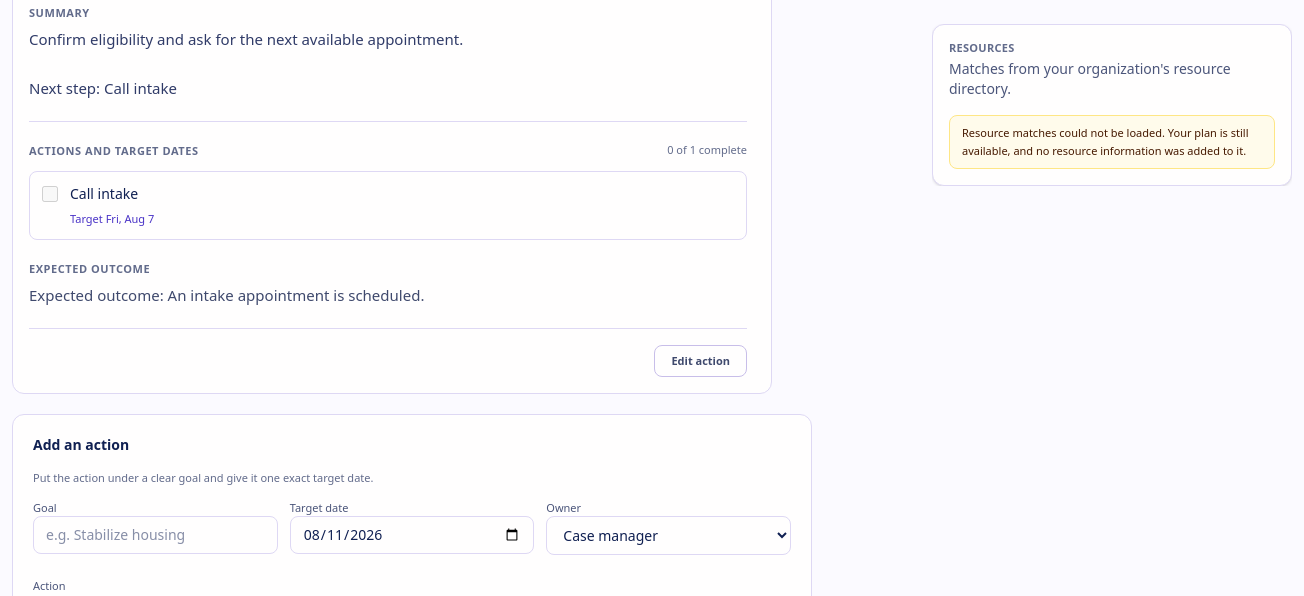
it: FamilyPlanPanel stale edit recovery › compares the open draft with the latest saved value before resolving a conflict
The image size is (1304, 596).
(page scrolled)
Click the button "Edit action" at (701, 361), box [654,345,747,377]
(page scrolled)
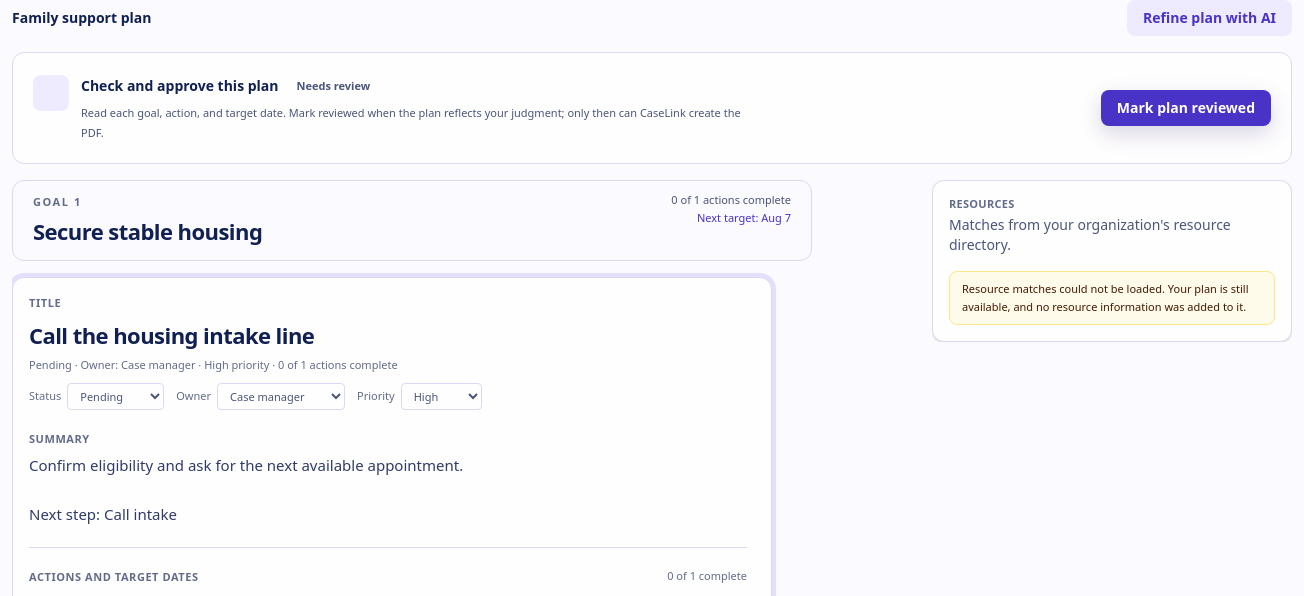
Click the button "Call the housing intake line" at (172, 335), box [29,318,747,352]
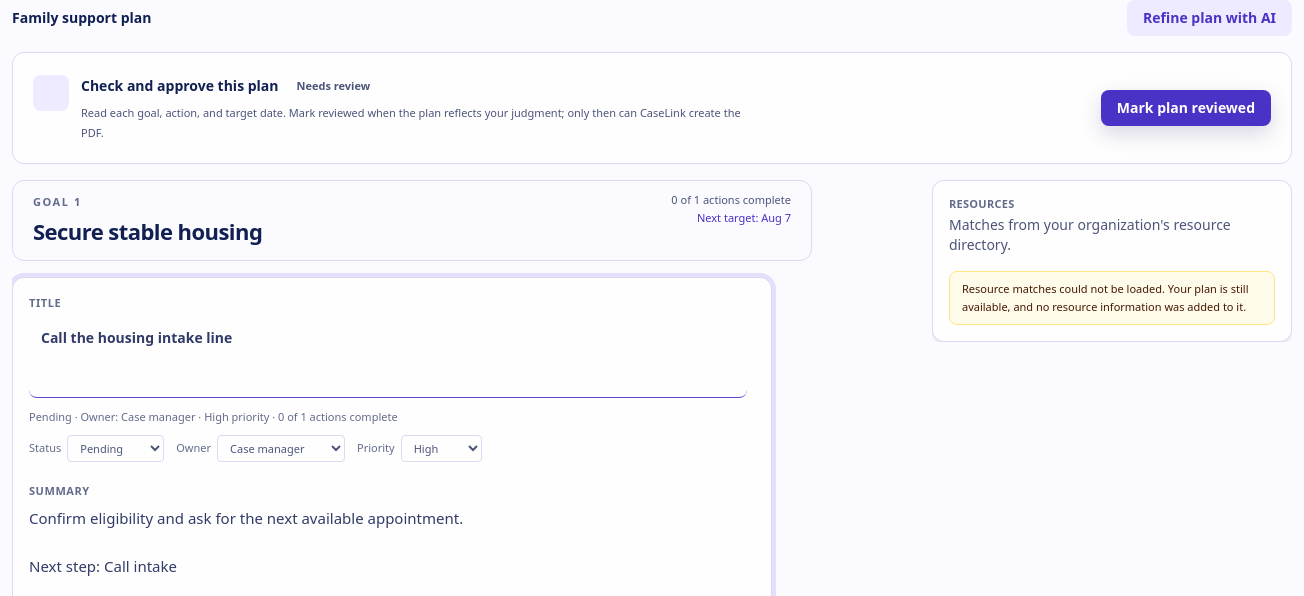
Replace the text in the text box showing "Call the housing intake line" with "Schedule the housing intake appointment" at (388, 358), box [29,318,747,398]
(page scrolled)
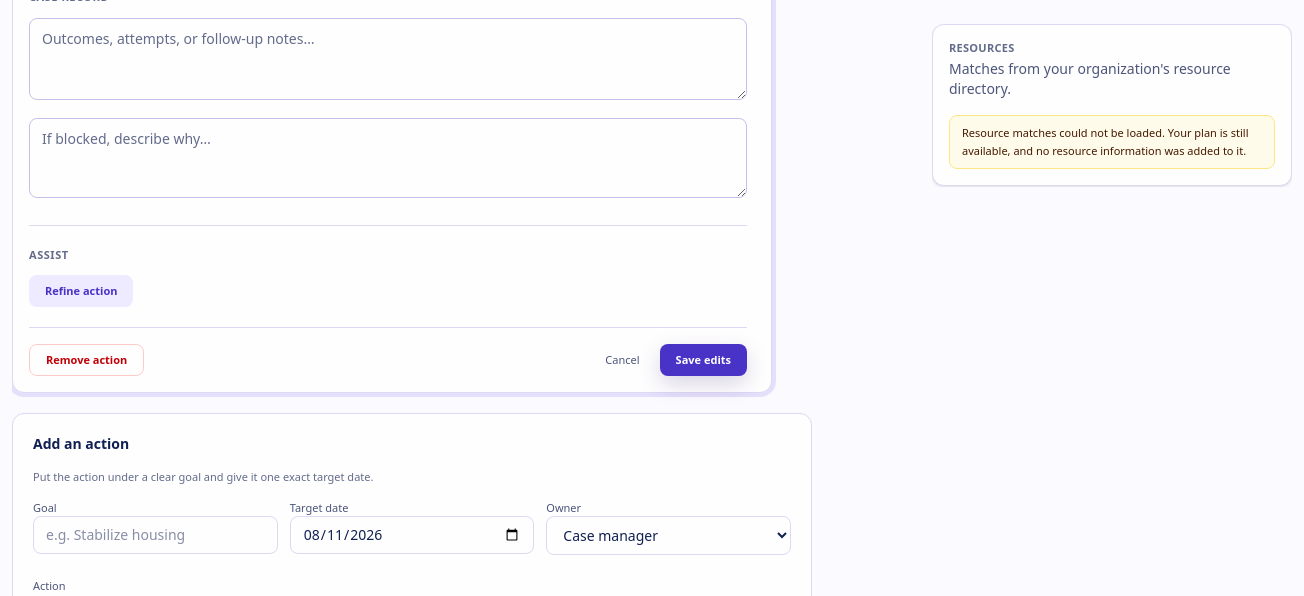
Click the button "Save edits" at (703, 360), box [660,344,747,376]
(page scrolled)
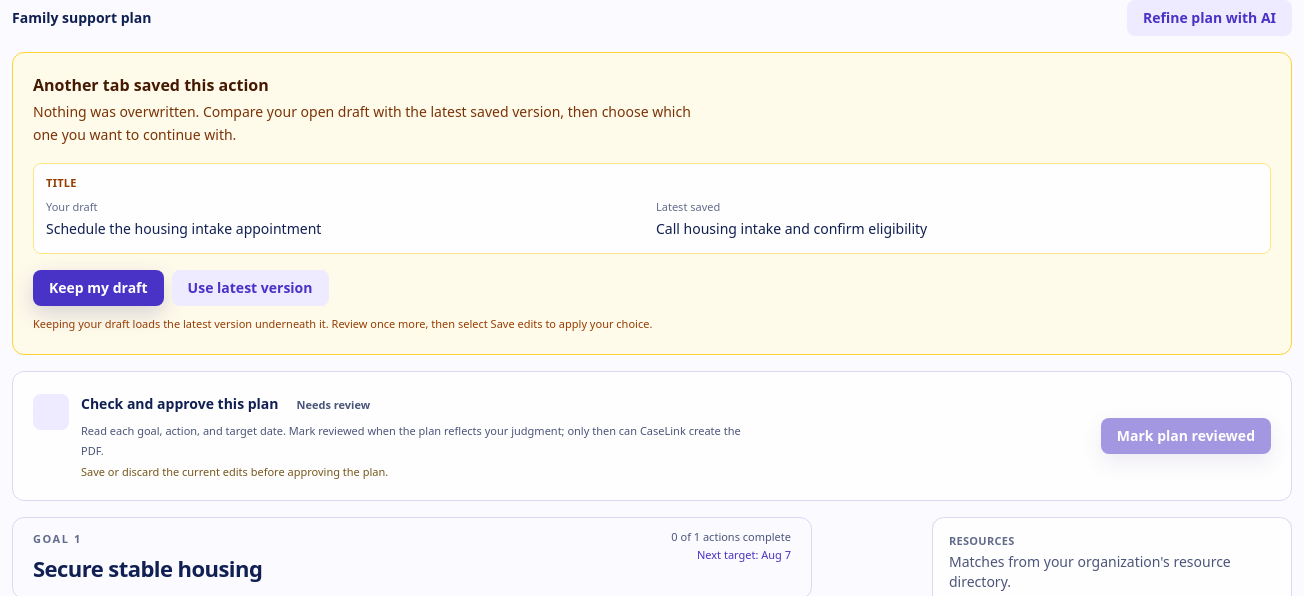
Check: the message "Another tab saved this action" is shown, box [12,52,1292,354]
Check: the text "Schedule the housing intake appointment" is shown, box [46,219,321,238]
Check: the text "Call housing intake and confirm eligibility" is shown, box [656,219,927,238]
